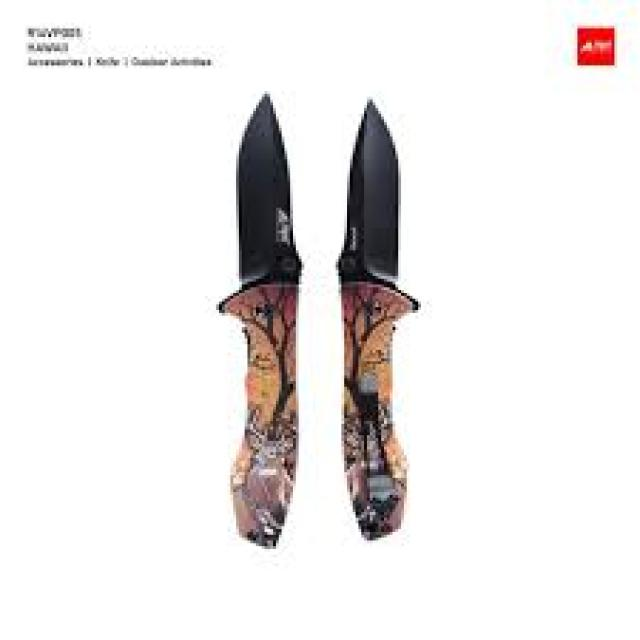Knife: (219, 91, 302, 546), (336, 100, 418, 538)
